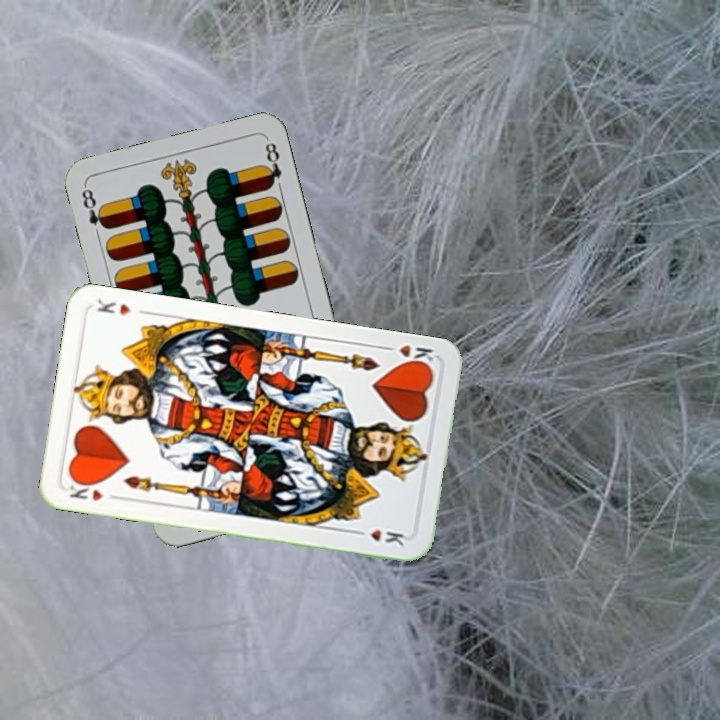E8: (77, 183, 111, 232)
HK: (378, 340, 437, 370), (63, 475, 106, 504)
